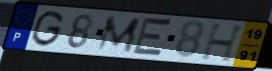8: (173, 19, 209, 61), (66, 13, 95, 49)
E: (130, 15, 175, 59)
G: (29, 9, 66, 48)
H: (198, 22, 247, 64)
M: (94, 15, 143, 54)
